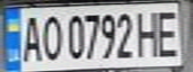0: (63, 10, 84, 61)
2: (115, 9, 136, 60)
7: (81, 10, 100, 61)
9: (97, 10, 118, 61)
A: (18, 11, 45, 63)
E: (154, 6, 184, 58)
H: (136, 7, 163, 58)
O: (39, 11, 63, 62)
